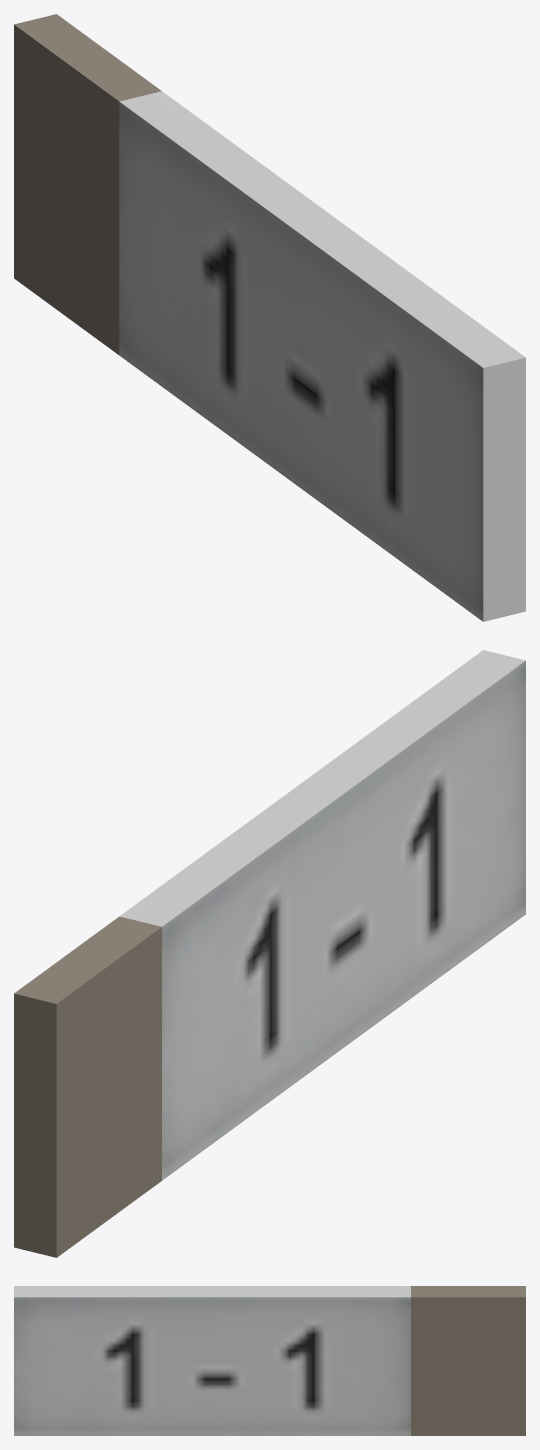
The model's file is b01_class_number_1_1.fbx.
3 renders of one model, top to bottom at view 1: azimuth 30°, elevation 25°; view 2: azimuth 150°, elevation 25°; view 3: azimuth 270°, elevation 25°, orthographic. The views are drawn at different scales.
Visible parts, largest first — view 1: b01_classroom_00_1; view 2: b01_classroom_00_1; view 3: b01_classroom_00_1.
Part boxes in pixels (x1,y1,x2,y2): b01_classroom_00_1: (14, 14, 525, 621); b01_classroom_00_1: (14, 650, 525, 1257); b01_classroom_00_1: (14, 1286, 525, 1435).
Bounding box in the file's own units: 2.5 × 14.21 × 47.6.
